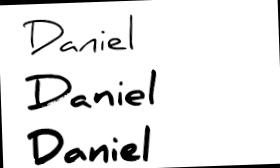text: (24, 66, 158, 112), (25, 122, 152, 167), (22, 12, 134, 57)
